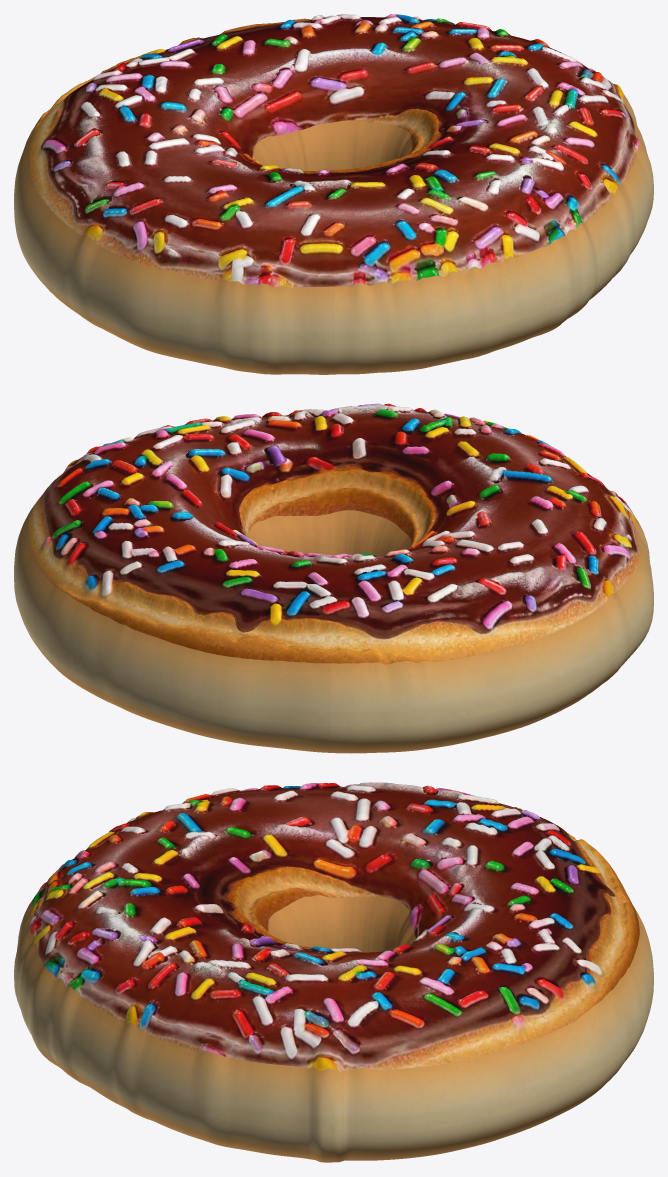
File: sprinkle-donut.glb
3 views of the same model, one above another, from view 1: azimuth 30°, elevation 25°; view 2: azimuth 150°, elevation 25°; view 3: azimuth 270°, elevation 25° (orthographic). The views are drawn at different scales.
Visible parts, largest first — view 1: Donut; view 2: Donut; view 3: Donut.
Part boxes in pixels (x1=…): Donut: x1=14, y1=14, x2=653, y2=374; Donut: x1=14, y1=403, x2=653, y2=753; Donut: x1=14, y1=782, x2=653, y2=1162.
Size of the model in its own units: 2.07 by 0.5644 by 1.96.
2 materials, 2 textured.
